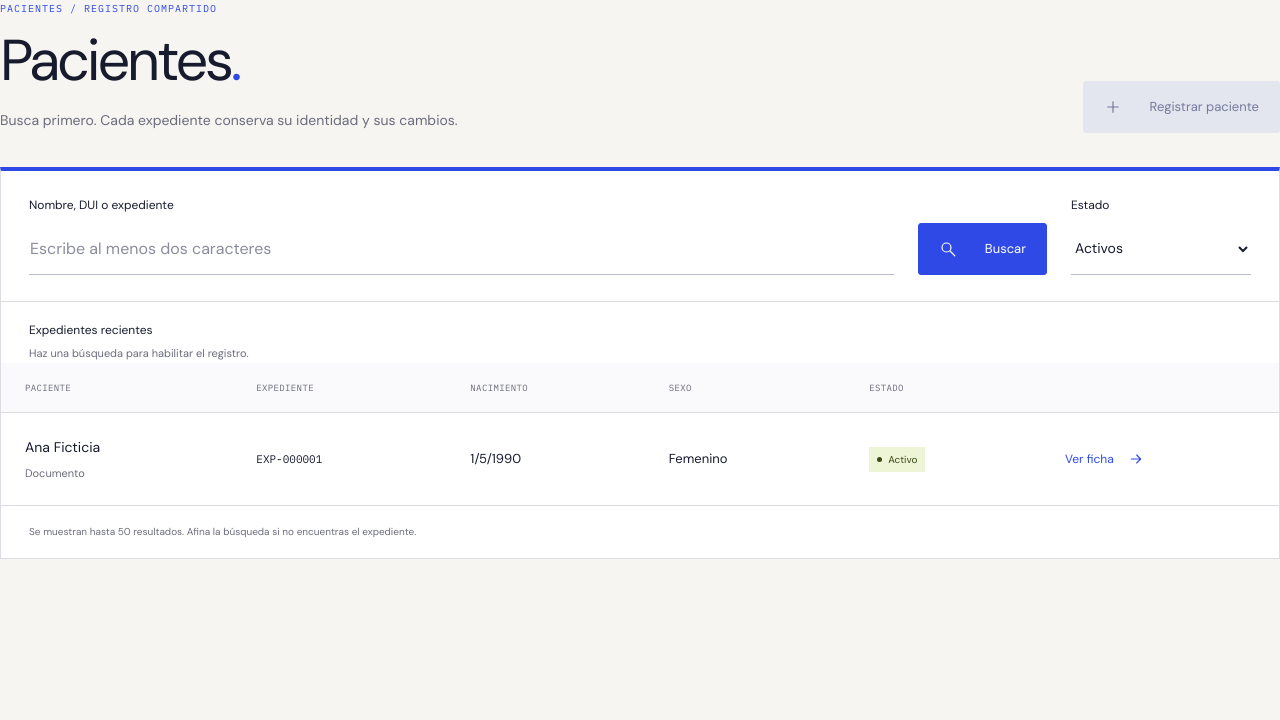
edición y estado › un conflicto de versión pide recargar la ficha en vez de un error genérico
Click the button with aria-label "Abrir ficha de Ana Ficticia" at (1104,459), box x1=1065 y1=437 x2=1144 y2=481
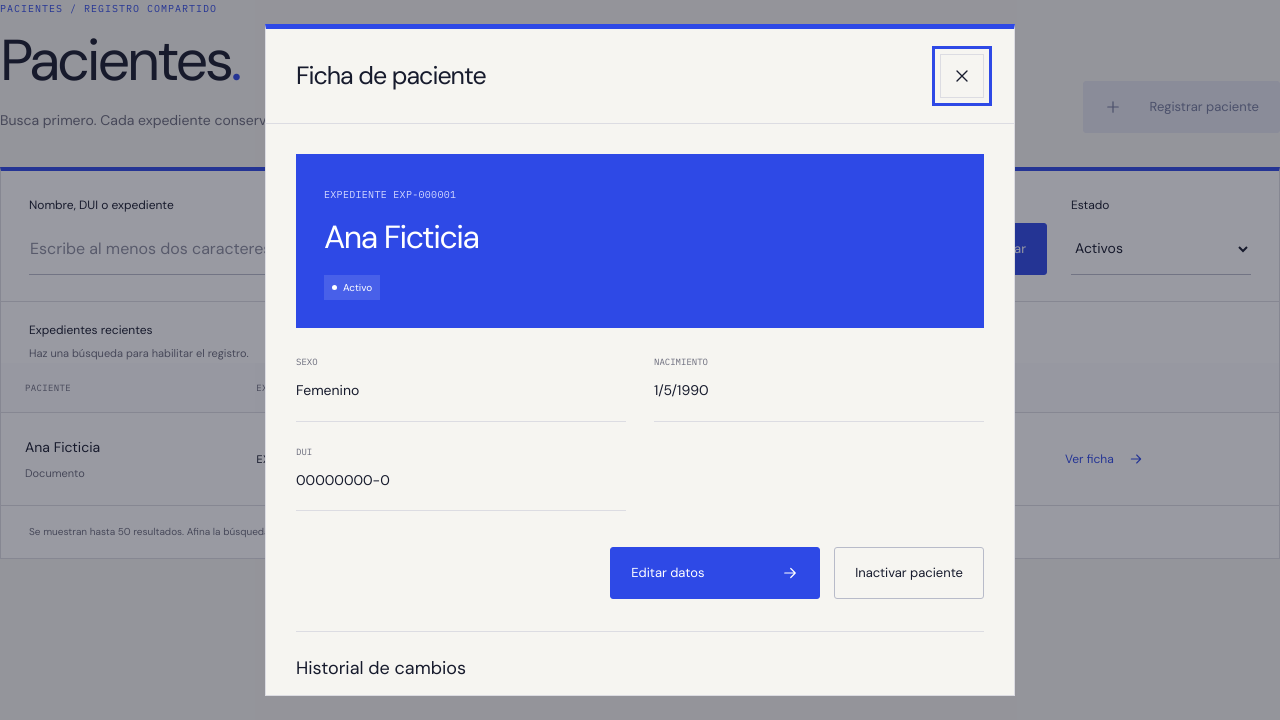
Click the button "Editar datos" at (715,573), box x1=610 y1=547 x2=820 y2=599
(page scrolled)
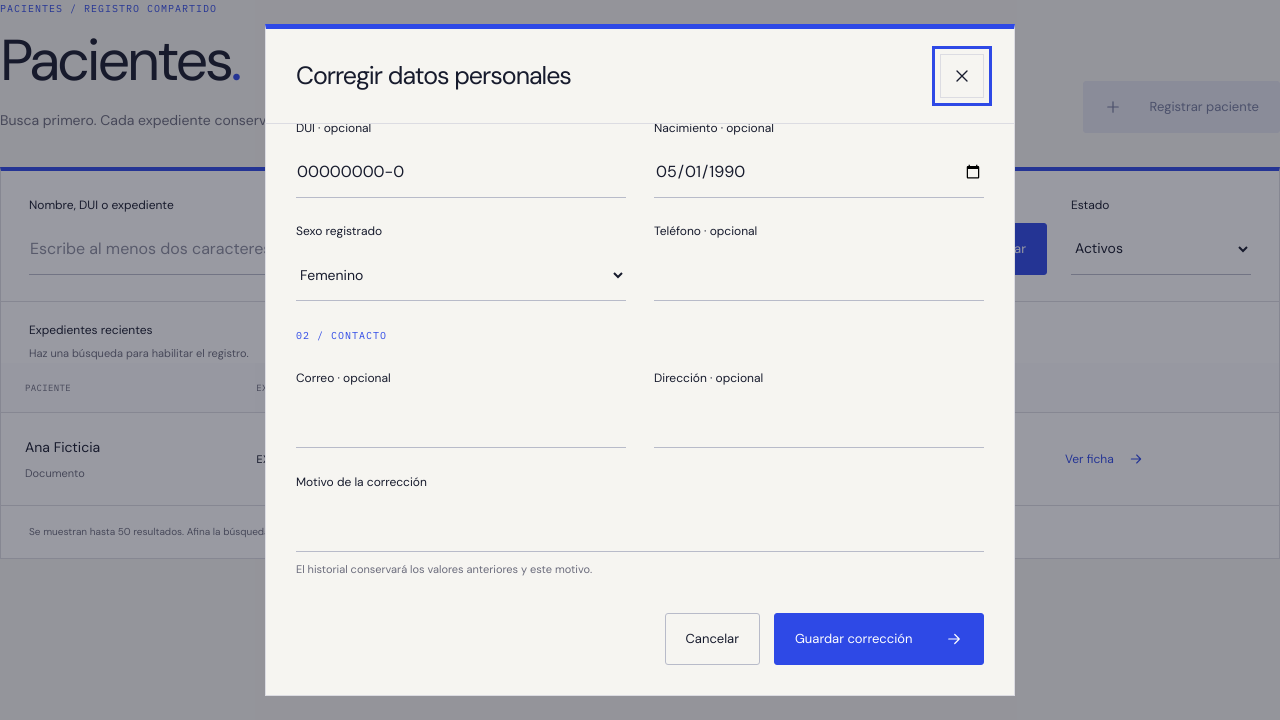
Type "motivo suficiente" into the field labelled "Motivo de la corrección" at (640,526), box x1=296 y1=500 x2=984 y2=552
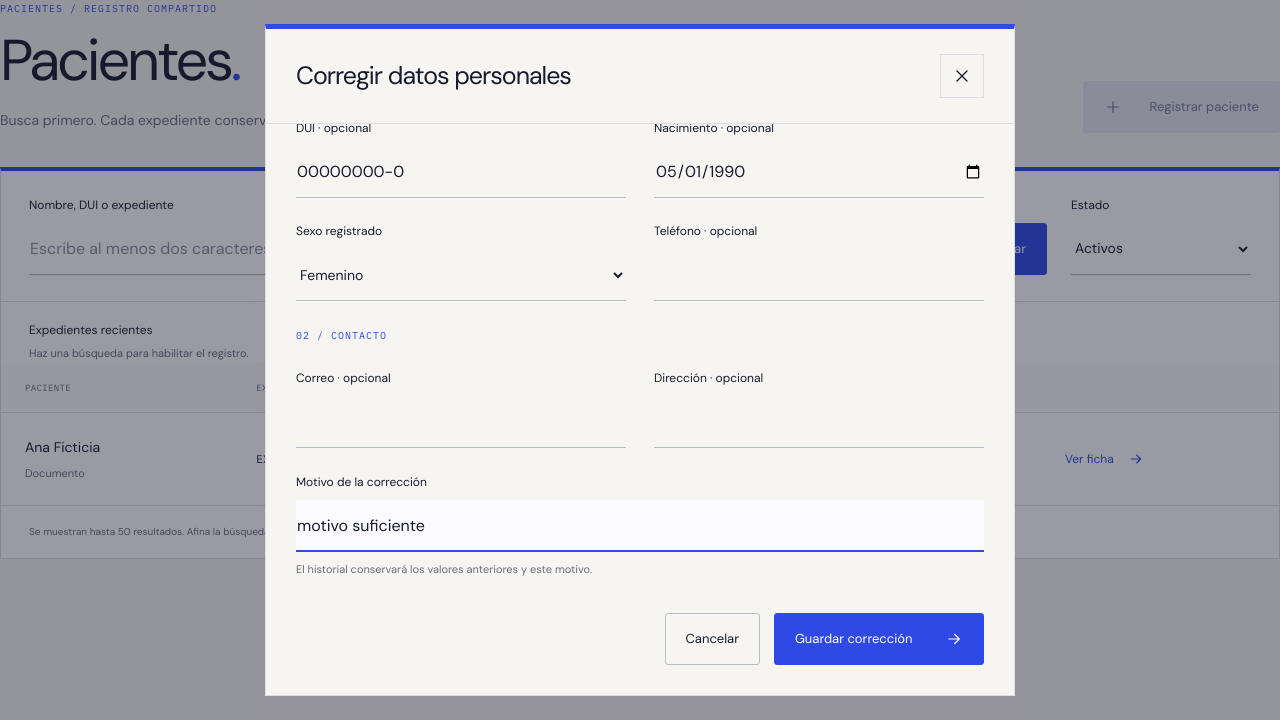
Click the button "Guardar corrección" at (879,639), box x1=774 y1=613 x2=984 y2=665
(page scrolled)
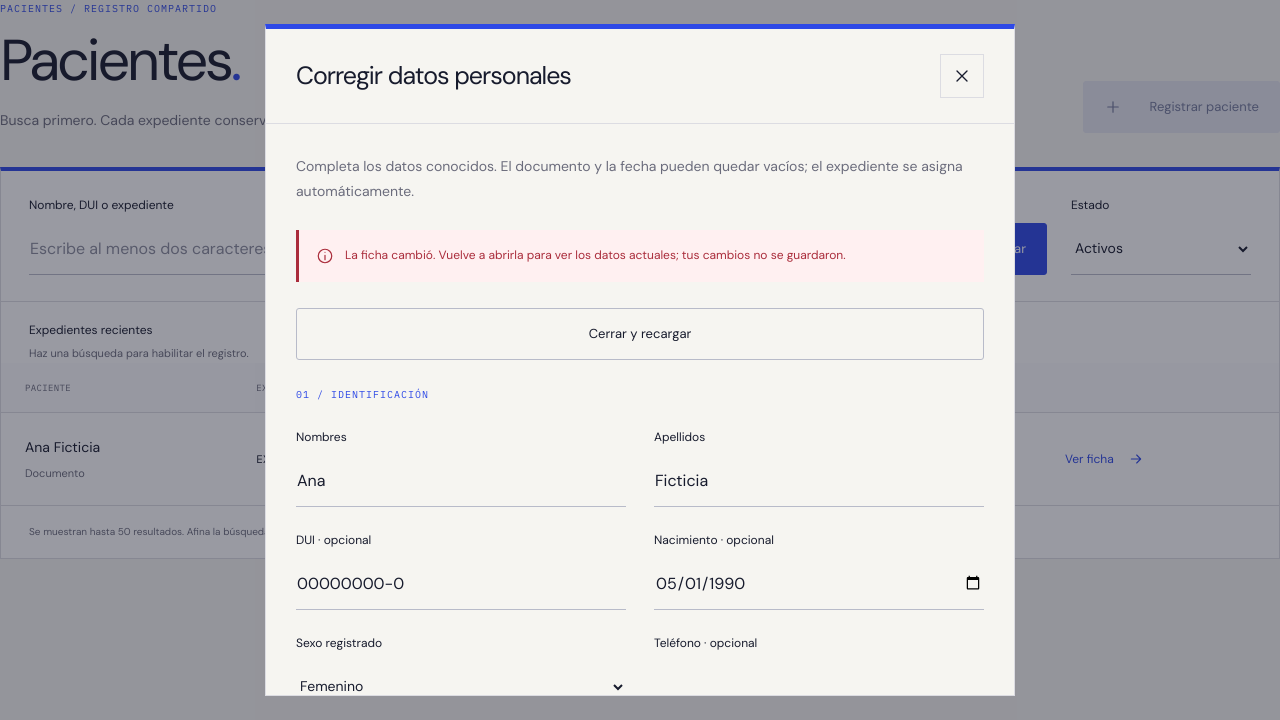
Result: the text "La ficha cambió. Vuelve a abrirla" is shown at x1=345 y1=247 x2=846 y2=263
Click the button "Cerrar y recargar" at (640,334), box x1=296 y1=308 x2=984 y2=360
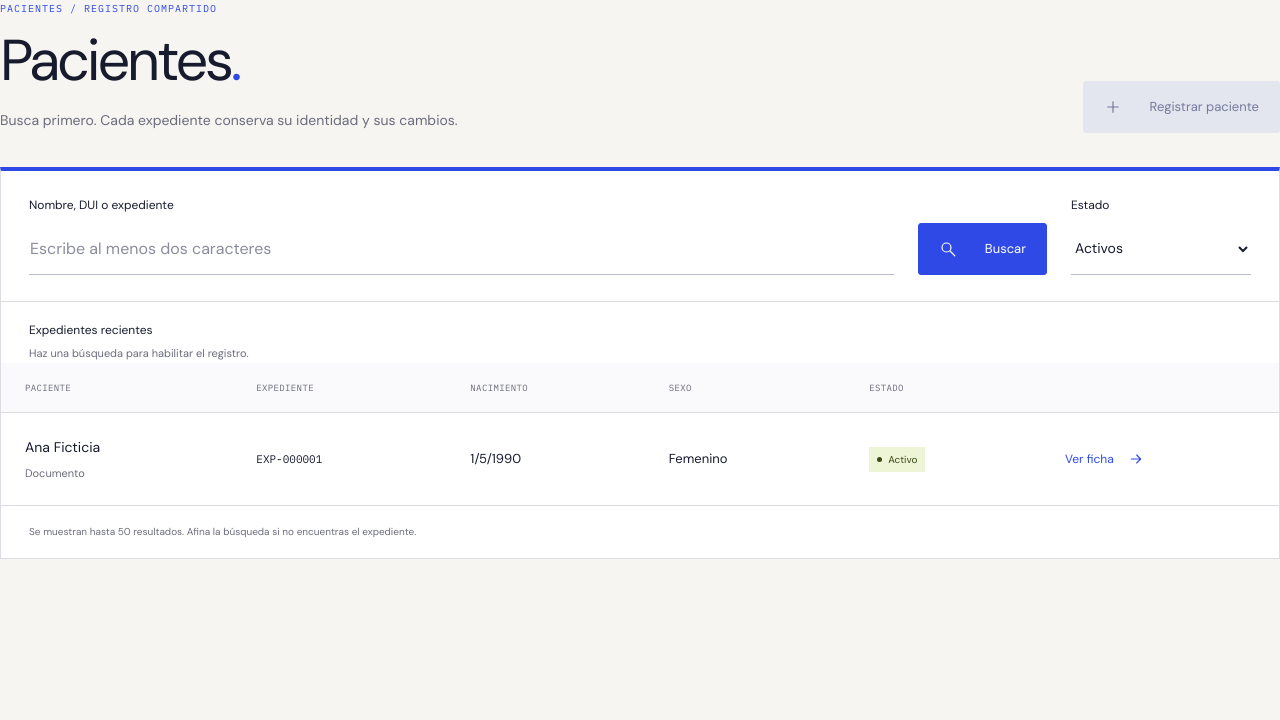
Result: the heading "Corregir datos personales" is gone
